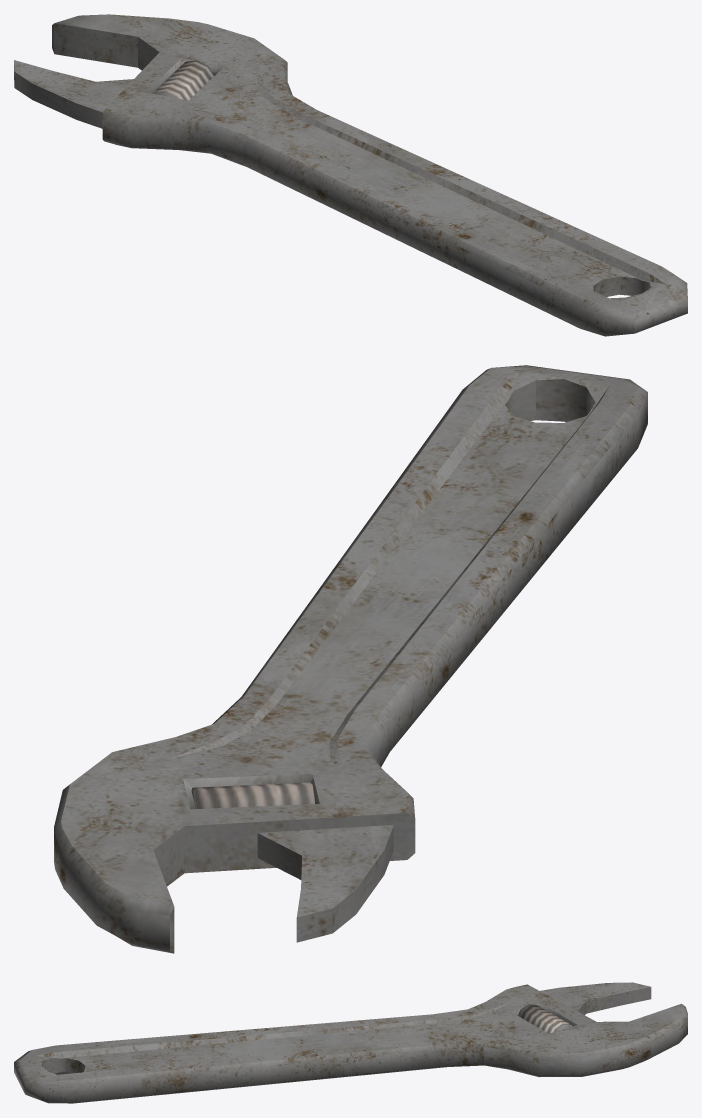
Rendered from Wrench.fbx.
3 views of the same model, one above another, from view 1: azimuth 30°, elevation 25°; view 2: azimuth 150°, elevation 25°; view 3: azimuth 270°, elevation 25° (orthographic). The views are drawn at different scales.
Visible parts, largest first — view 1: Cube_003_8; view 2: Cube_003_8; view 3: Cube_003_8.
Part boxes in pixels (left/top/right/bottom): Cube_003_8: left=14, top=14, right=687, bottom=336; Cube_003_8: left=54, top=365, right=647, bottom=953; Cube_003_8: left=14, top=982, right=687, bottom=1103.
Bounding box in the file's own units: 10.08 × 1.32 × 27.17.
Materials: 1 (1 with a texture image).
